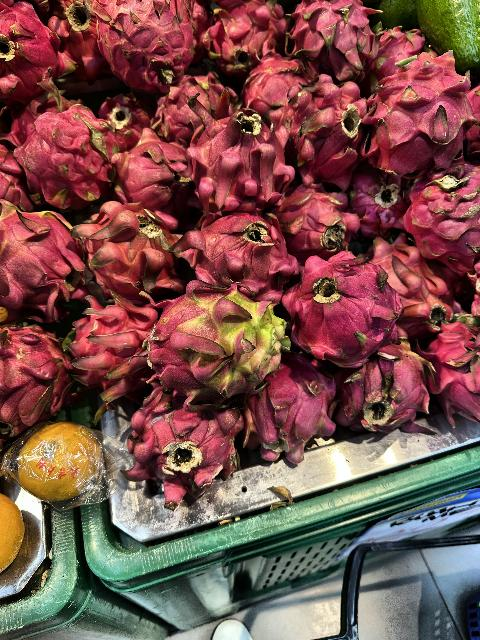buah-naga-belum-matang: (146, 286, 288, 396)
buah-naga-matang: (366, 49, 476, 173), (118, 389, 240, 493), (280, 249, 406, 349), (182, 93, 292, 207), (79, 196, 185, 300), (0, 191, 84, 317), (80, 0, 206, 84), (16, 108, 117, 202), (281, 84, 369, 184), (336, 338, 431, 426), (110, 131, 202, 221), (280, 0, 380, 82), (2, 318, 70, 436), (256, 358, 332, 462), (366, 234, 448, 330), (402, 165, 480, 263), (186, 210, 286, 284), (68, 304, 156, 386), (1, 2, 74, 98), (424, 309, 480, 419), (142, 72, 230, 138), (204, 0, 292, 64), (240, 54, 308, 110)
